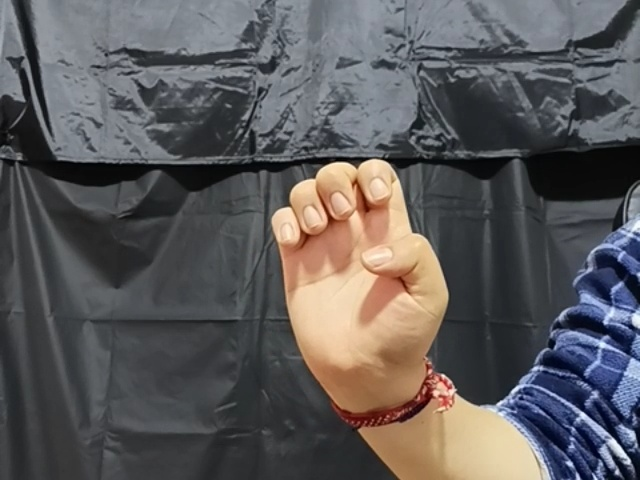E: (267, 154, 454, 398)
